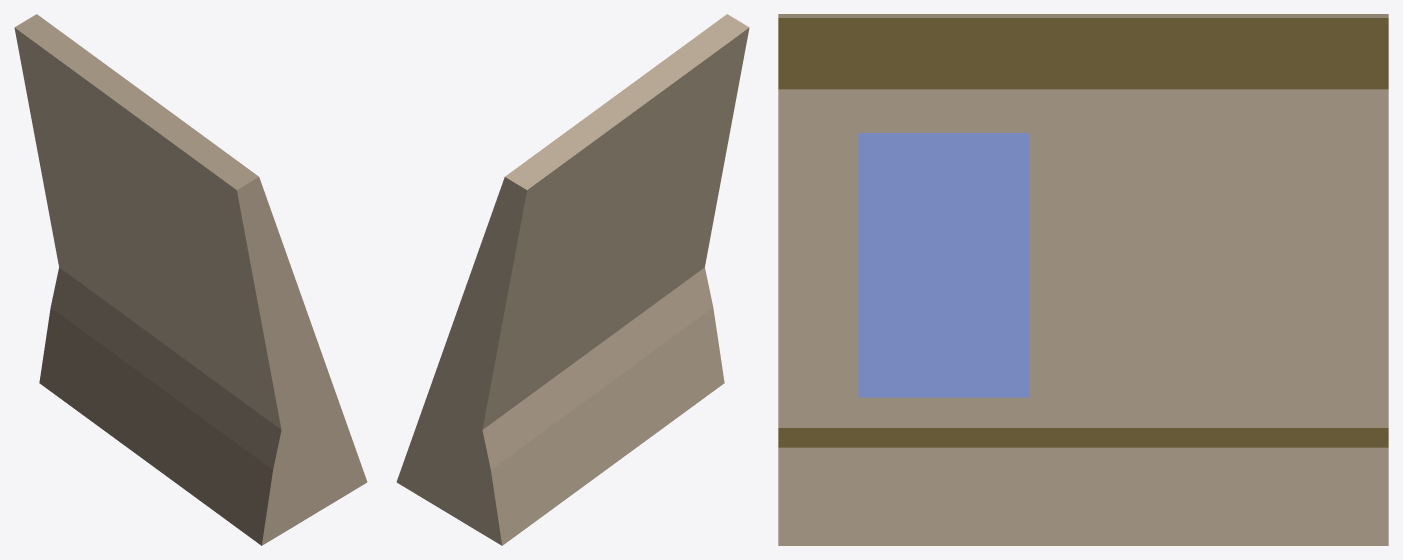
File: calendar.fbx
The picture shows the model from 3 angles, left to right: view 1: azimuth 30°, elevation 25°; view 2: azimuth 150°, elevation 25°; view 3: azimuth 270°, elevation 25°; orthographic projection. The views are drawn at different scales.
Visible parts, largest first — view 1: Cube; view 2: Cube; view 3: Cube.
Part boxes in pixels (x1,y1,x2,y2): Cube: (14, 14, 367, 545); Cube: (396, 14, 749, 545); Cube: (778, 14, 1388, 545).
Size of the model in its own units: 67.86 by 183 by 200.
